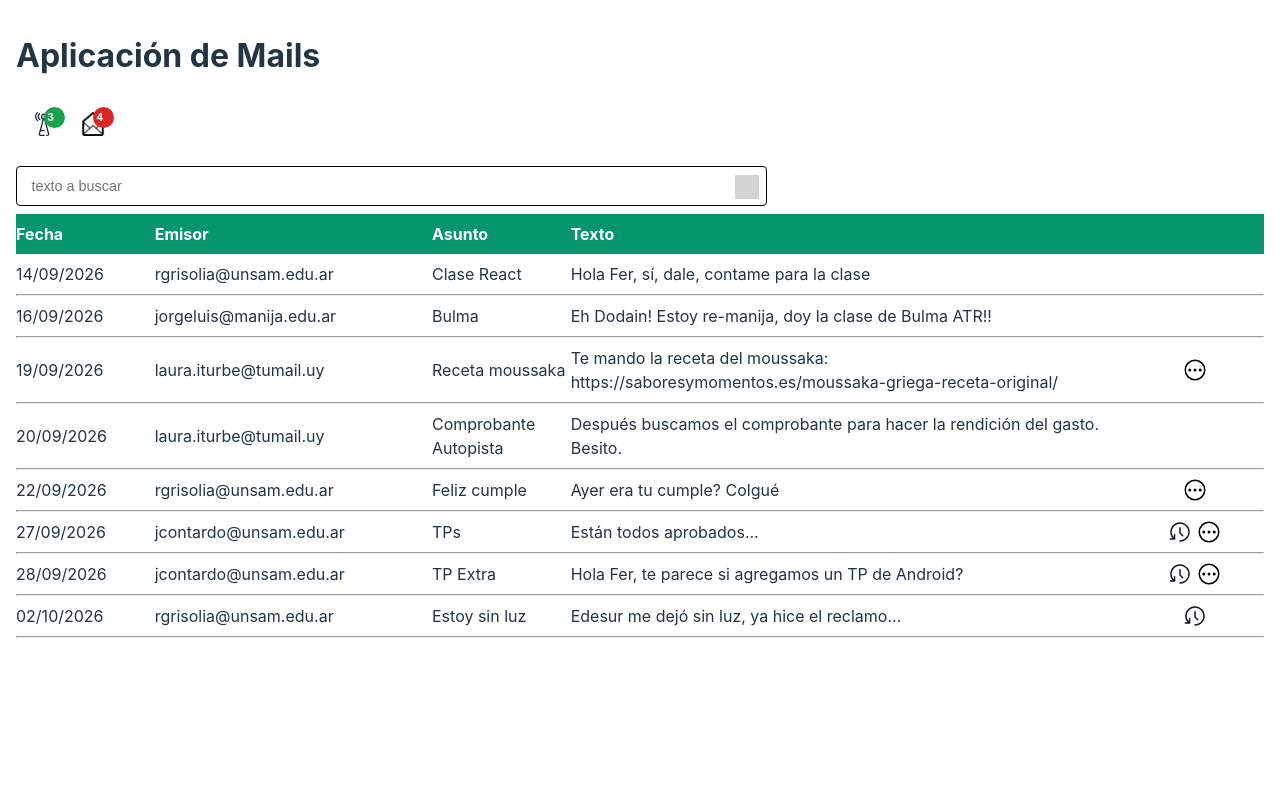
tests del Mail Reader › al buscar pasa los mails filtrados a los componentes hijos
The width and height of the screenshot is (1280, 800).
Type "luz" into the field with test id "textSearch" at (391,186), box [16,166,767,206]
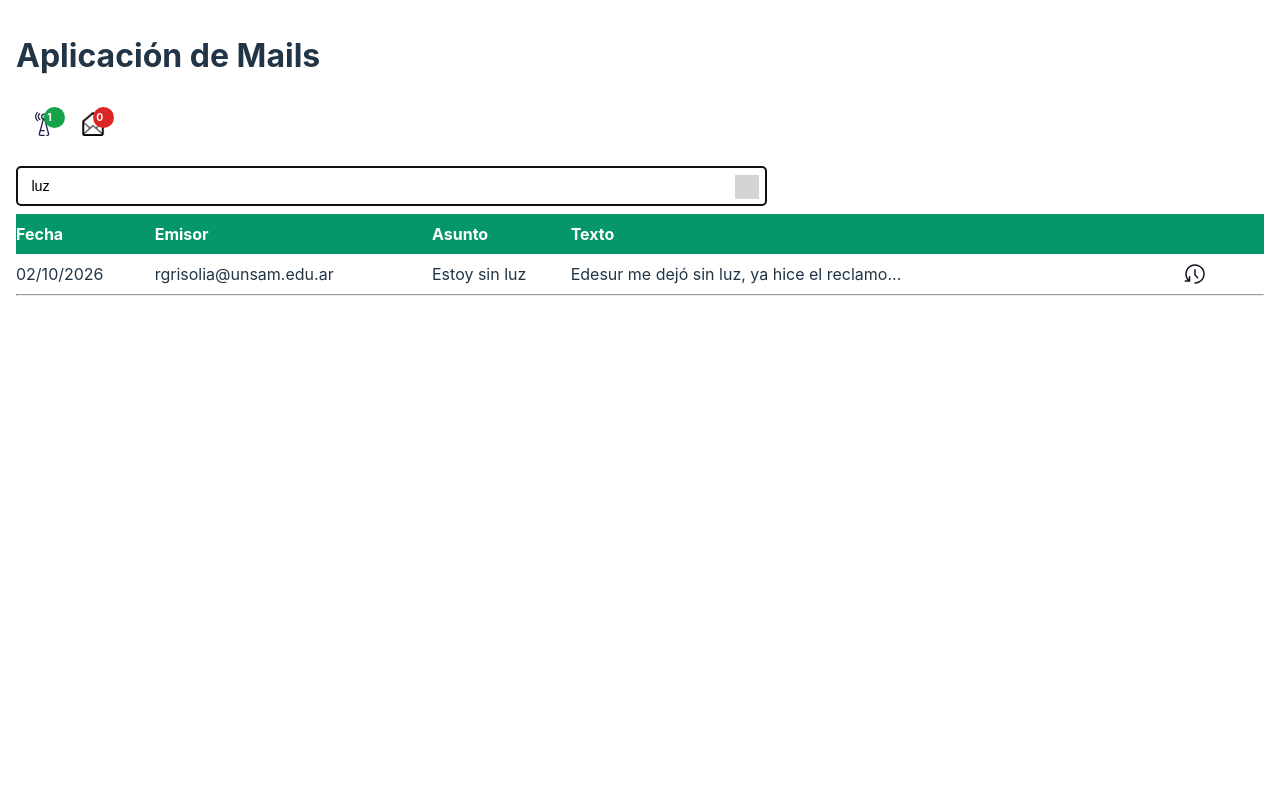
expect the number of elements with test id "fecha" is 1: met, box [16,264,104,284]
